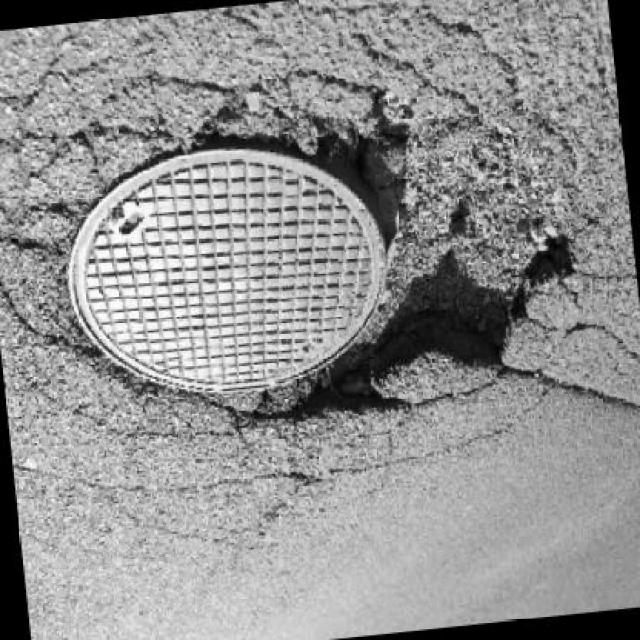pothole: (246, 78, 599, 440)
